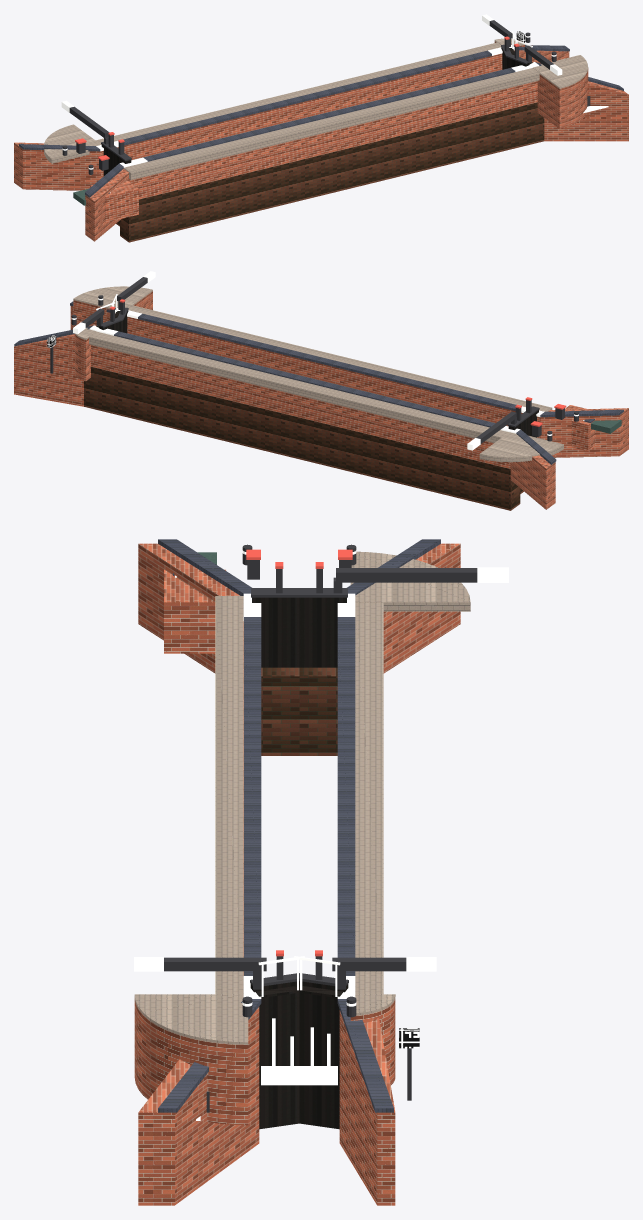
File: lock-43.glb
The picture shows the model from 3 angles, top to bottom: view 1: azimuth 30°, elevation 25°; view 2: azimuth 150°, elevation 25°; view 3: azimuth 270°, elevation 25°; orthographic projection. The views are drawn at different scales.
Visible parts, largest first — view 1: Chamber, ChamberWet, Edge, Coping.001, TopGateCap, Coping, TopGate; view 2: Chamber, ChamberWet, Edge, Coping.001, TopGateCap, Coping, TopGate; view 3: Chamber, Edge, Coping.001, TopGate, TopGateCap, ChamberWet, Coping, Leak.
Boxes of the visible parts, bbox=[...] form: Chamber: bbox=[14, 41, 628, 241]; ChamberWet: bbox=[116, 102, 544, 242]; Edge: bbox=[44, 38, 588, 179]; Coping.001: bbox=[19, 44, 623, 197]; TopGateCap: bbox=[62, 20, 590, 174]; Coping: bbox=[61, 14, 562, 169]; TopGate: bbox=[101, 47, 532, 175]; Chamber: bbox=[14, 291, 628, 509]; ChamberWet: bbox=[84, 367, 523, 510]; Edge: bbox=[73, 286, 563, 462]; Coping.001: bbox=[14, 301, 623, 464]; TopGateCap: bbox=[50, 277, 578, 443]; Coping: bbox=[71, 271, 578, 450]; TopGate: bbox=[96, 310, 538, 437]; Chamber: bbox=[134, 543, 460, 1205]; Edge: bbox=[134, 551, 470, 1044]; Coping.001: bbox=[158, 539, 440, 1112]; TopGate: bbox=[250, 597, 348, 1129]; TopGateCap: bbox=[164, 544, 477, 1112]; ChamberWet: bbox=[261, 667, 337, 755]; Coping: bbox=[134, 550, 508, 1006]; Leak: bbox=[175, 575, 337, 1120].
Size of the model in its own units: 33.79 by 5.43 by 10.24.
11 materials, 8 textured.
